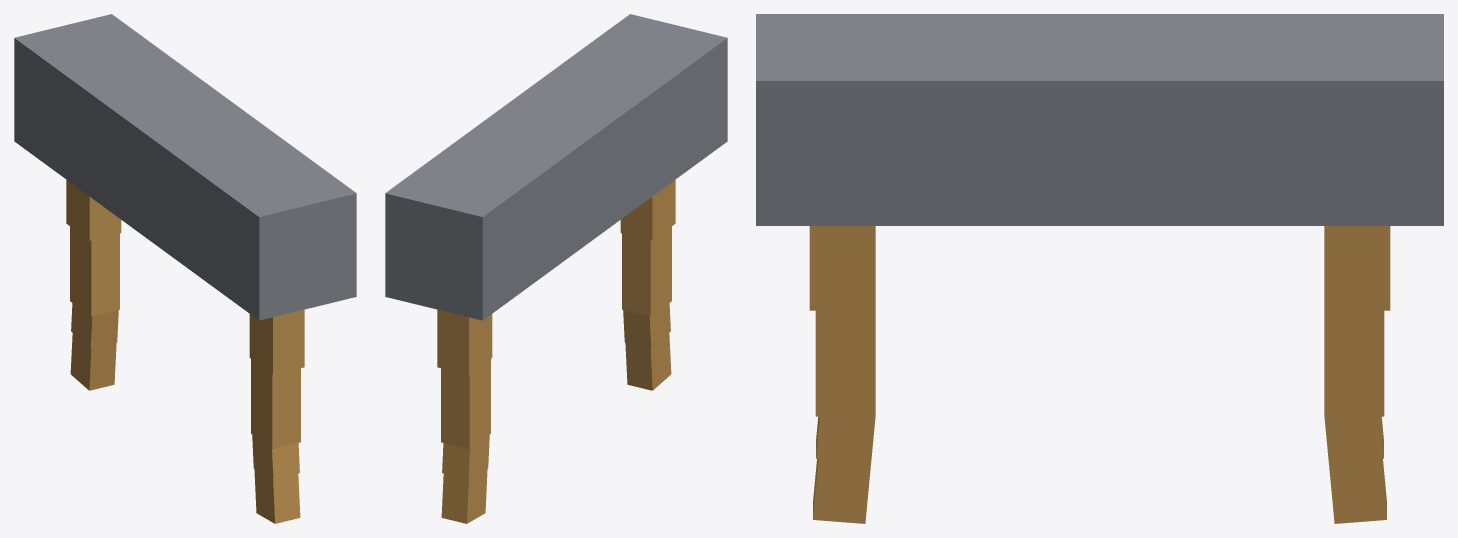
File: gripper.glb
3 views of the same model, side by side, from view 1: azimuth 30°, elevation 25°; view 2: azimuth 150°, elevation 25°; view 3: azimuth 270°, elevation 25° (orthographic). The views are drawn at different scales.
Visible parts, largest first — view 1: palm, finger_right, finger_left; view 2: palm, finger_left, finger_right; view 3: palm, finger_left, finger_right.
Boxes of the visible parts, left/top/right/bottom form: palm: left=14, top=14, right=356, bottom=320; finger_right: left=249, top=309, right=304, bottom=523; finger_left: left=66, top=180, right=121, bottom=390; palm: left=385, top=14, right=727, bottom=320; finger_left: left=437, top=309, right=492, bottom=523; finger_right: left=620, top=180, right=675, bottom=390; palm: left=756, top=14, right=1443, bottom=225; finger_left: left=1324, top=226, right=1390, bottom=523; finger_right: left=809, top=226, right=875, bottom=523.
Size of the model in its own units: 0.0296 by 0.0966 by 0.1287.
